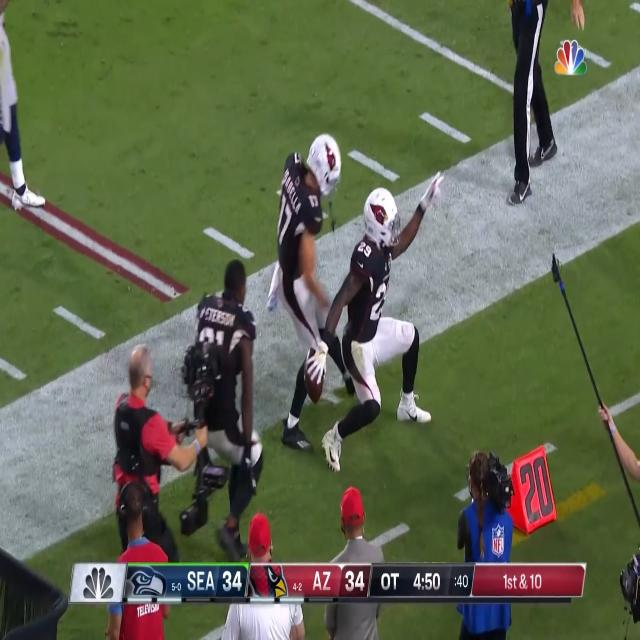football: (304, 348, 325, 404)
players: (308, 168, 446, 472), (188, 258, 266, 559), (268, 136, 342, 452)
